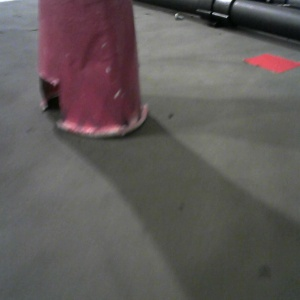middle: (46, 1, 108, 45)
